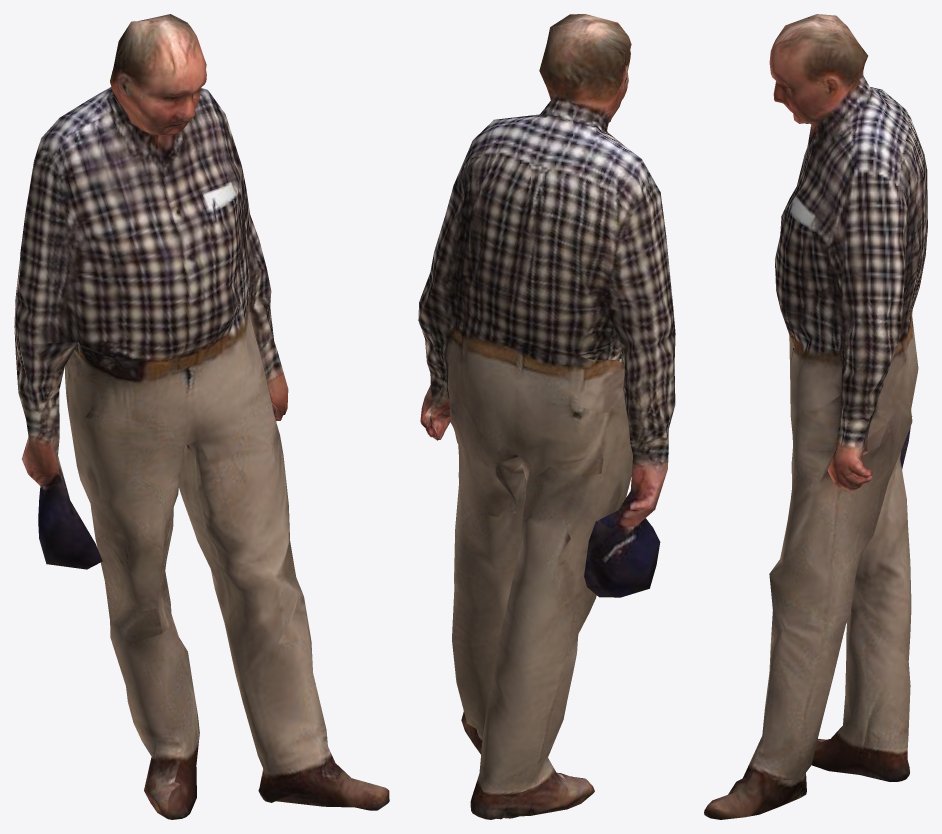
File: casual3.obj
3 views of the same model, side by side, from view 1: azimuth 30°, elevation 25°; view 2: azimuth 150°, elevation 25°; view 3: azimuth 270°, elevation 25° (orthographic). The views are drawn at different scales.
Visible parts, largest first — view 1: lwpg0045; view 2: lwpg0045; view 3: lwpg0045.
Boxes of the visible parts, x1=… form: lwpg0045: x1=14, y1=14, x2=389, y2=819; lwpg0045: x1=418, y1=14, x2=675, y2=819; lwpg0045: x1=704, y1=14, x2=927, y2=819.
Size of the model in its own units: 0.6789 by 1.78 by 0.4914.
Materials: 1 (1 with a texture image).
